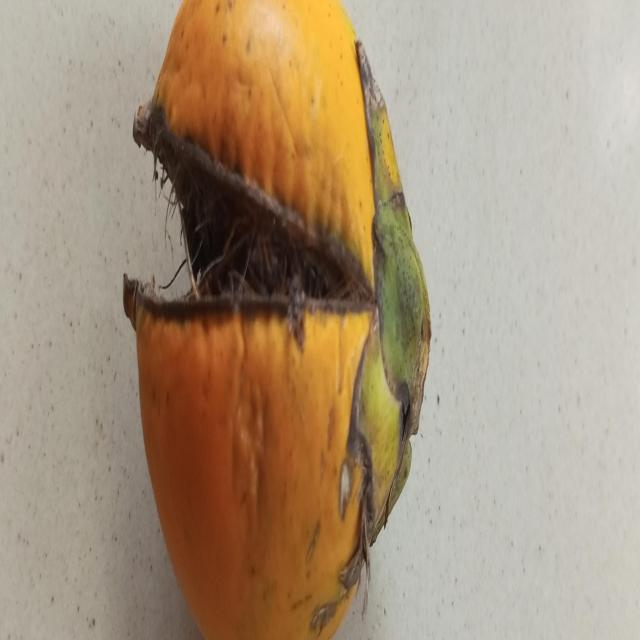damaged: (122, 0, 430, 640)
